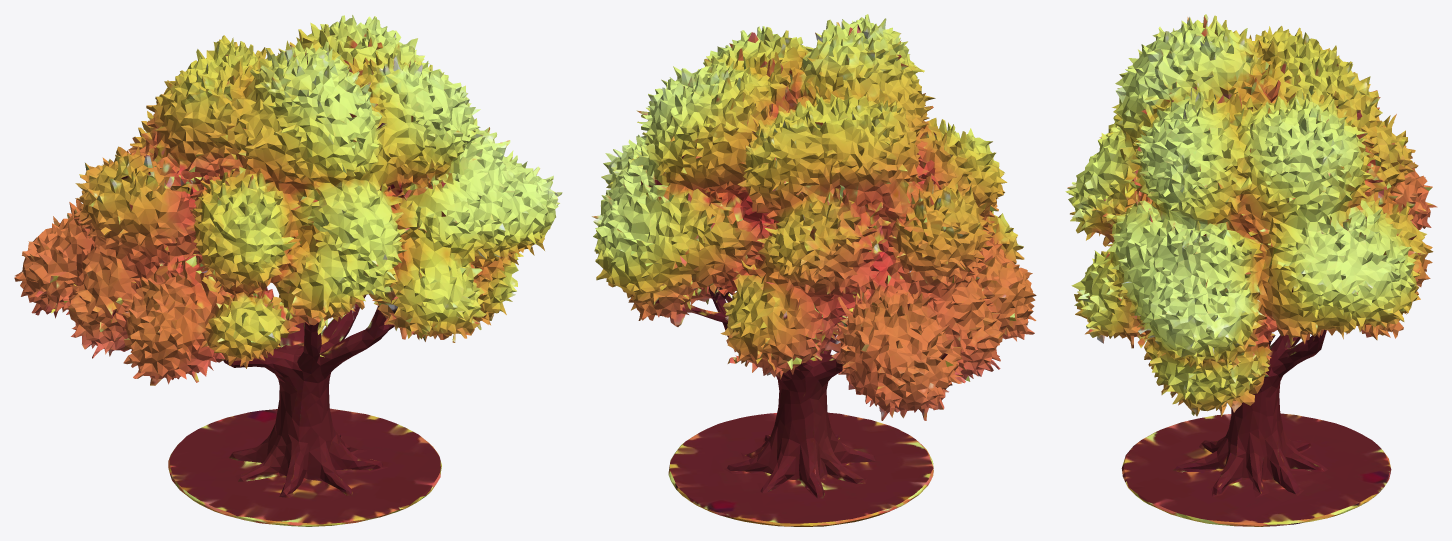
Rendered from tree_golden_ginkgo_liyue.glb.
3 renders of one model, left to right at view 1: azimuth 30°, elevation 25°; view 2: azimuth 150°, elevation 25°; view 3: azimuth 270°, elevation 25°, orthographic. The views are drawn at different scales.
Visible parts, largest first — view 1: tmppznrrix6.ply; view 2: tmppznrrix6.ply; view 3: tmppznrrix6.ply.
Boxes of the visible parts, bbox=[...] form: tmppznrrix6.ply: bbox=[14, 15, 562, 526]; tmppznrrix6.ply: bbox=[591, 14, 1036, 526]; tmppznrrix6.ply: bbox=[1065, 14, 1437, 526].
Size of the model in its own units: 1.97 by 1.89 by 1.46.
1 material, 1 textured.
